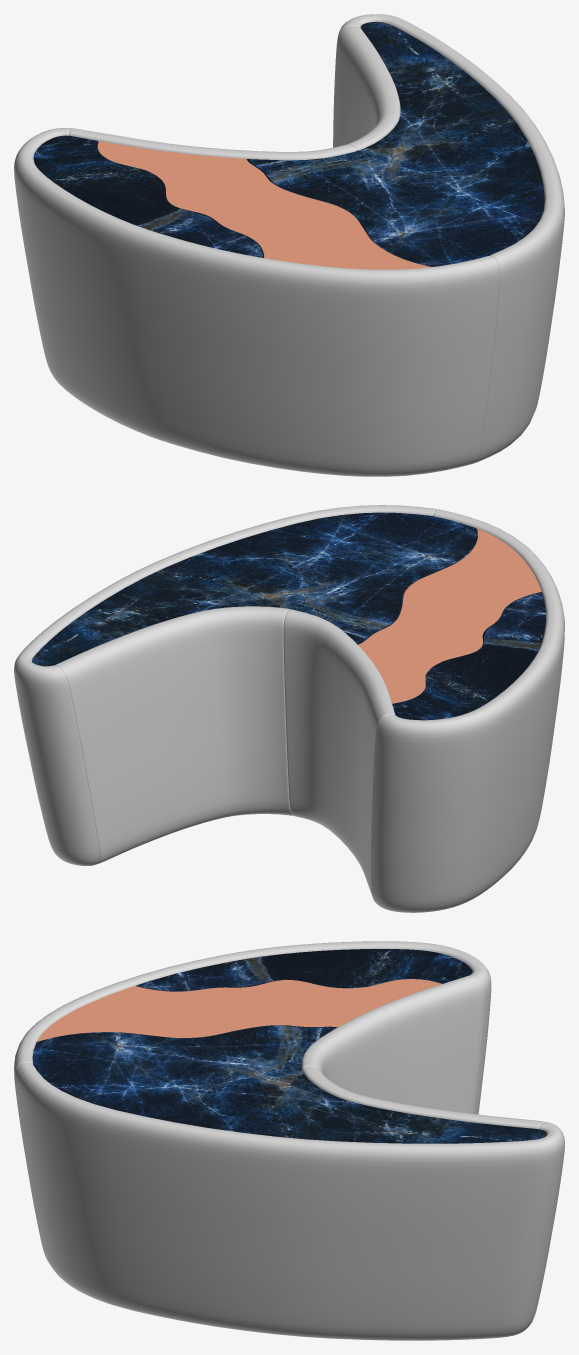
Rendered from SLN_ISLAND-IN-THE-STREAM_SMALL.glb.
The picture shows the model from 3 angles, top to bottom: view 1: azimuth 30°, elevation 25°; view 2: azimuth 150°, elevation 25°; view 3: azimuth 270°, elevation 25°; orthographic projection. The views are drawn at different scales.
Parts seen in each view (by area): view 1: ISLAND IN THE STREAM_SMALL; view 2: ISLAND IN THE STREAM_SMALL; view 3: ISLAND IN THE STREAM_SMALL.
Boxes of the visible parts, left/top/right/bottom form: ISLAND IN THE STREAM_SMALL: left=14, top=14, right=564, bottom=476; ISLAND IN THE STREAM_SMALL: left=14, top=505, right=564, bottom=912; ISLAND IN THE STREAM_SMALL: left=14, top=941, right=564, bottom=1340.
Size of the model in its own units: 0.8688 by 0.3956 by 0.9528.
Materials: 3 (1 with a texture image).
